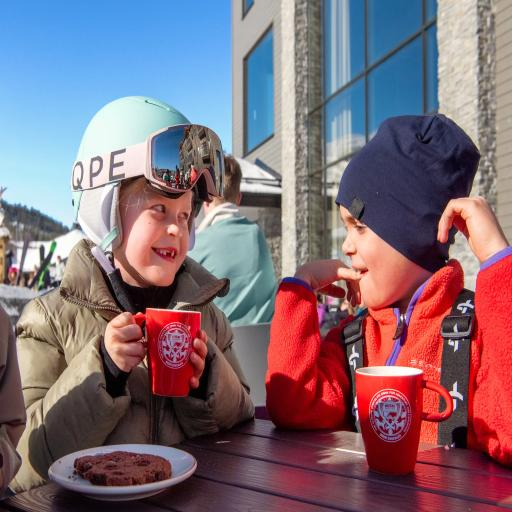red mug: (355, 366, 453, 475), (356, 366, 453, 474), (134, 308, 200, 396)
